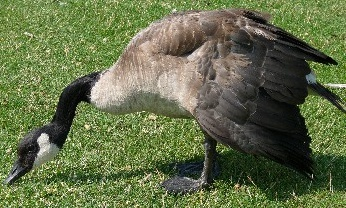goose: (4, 4, 346, 203)
